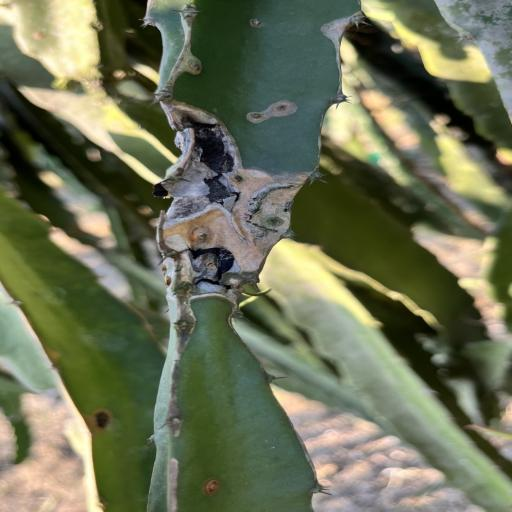stemcanker: (241, 102, 302, 125), (196, 472, 236, 498), (265, 97, 296, 122), (192, 476, 230, 496), (240, 15, 278, 34), (232, 15, 268, 30), (244, 106, 264, 124), (189, 228, 209, 240), (231, 174, 249, 186), (207, 262, 220, 272)
